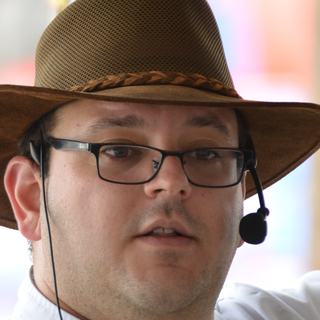eye: (93, 136, 144, 164), (180, 143, 224, 164)
